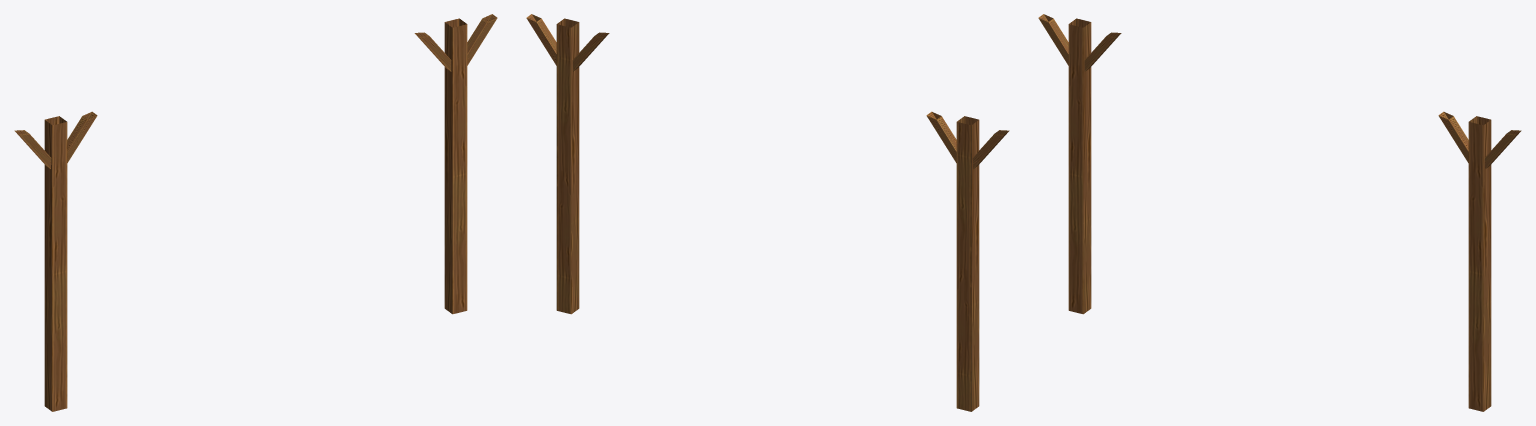
3 views of the same model, side by side, from view 1: azimuth 30°, elevation 25°; view 2: azimuth 150°, elevation 25°; view 3: azimuth 330°, elevation 25° (orthographic).
Visible parts, largest first — view 1: Cube.1521; view 2: Cube.1521; view 3: Cube.1521.
Boxes of the visible parts, <box> form: Cube.1521: <box>14,14,497,411</box>; Cube.1521: <box>526,14,1009,411</box>; Cube.1521: <box>1038,14,1521,411</box>.
Bounding box in the file's own units: 768 × 440 × 21.88.
Materials: 1 (1 with a texture image).
